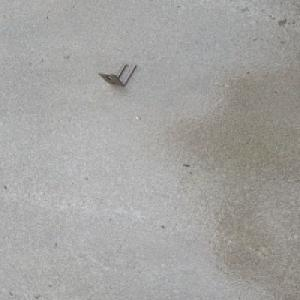MetalPart: (96, 62, 136, 86)
